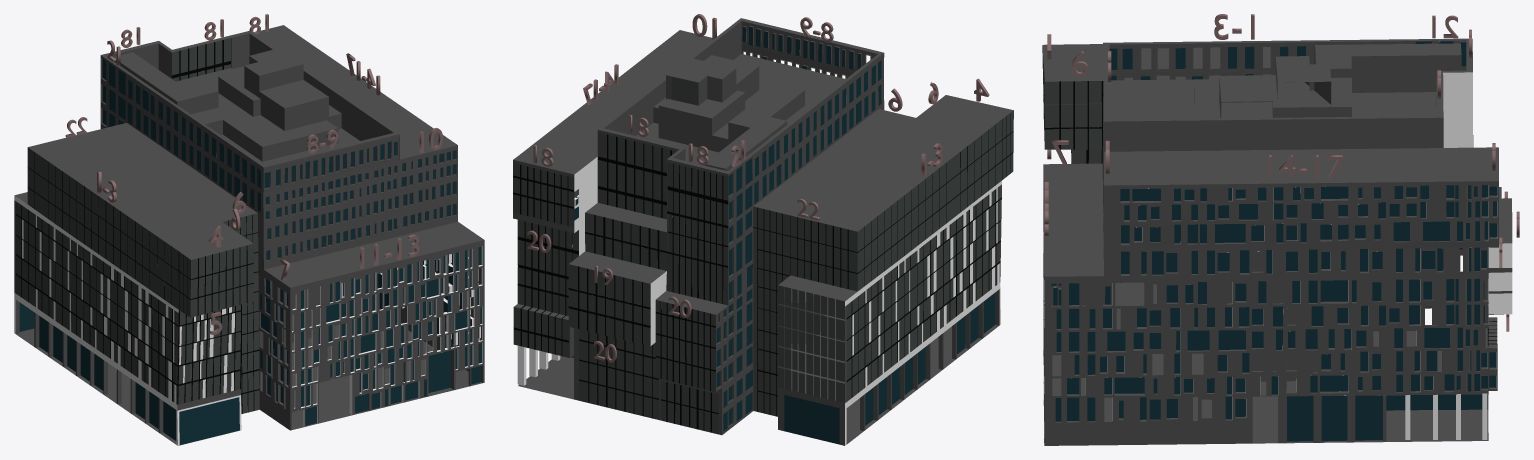
The model's file is S1Handyside.glb.
3 renders of one model, left to right at view 1: azimuth 30°, elevation 25°; view 2: azimuth 150°, elevation 25°; view 3: azimuth 270°, elevation 25°, orthographic. The views are drawn at different scales.
Visible parts, largest first — view 1: building, Drop1, Drop2, Drop3, Drop5, Drop4, Drop12, Drop6, Drop11, Drop13, Drop8, Drop9 (+6 smaller); view 2: building, Drop20, Drop18, Drop22, Drop1, Drop2, Drop3, Drop19, Drop21, Drop9, Drop8, Text.009; view 3: building, Drop15, Drop16, Drop17, Drop6, Drop14, Text.009, Drop21.
Boxes of the visible parts, x1=… form: building: x1=14, y1=25, x2=484, y2=445; Drop1: x1=16, y1=147, x2=83, y2=339; Drop2: x1=83, y1=187, x2=142, y2=379; Drop3: x1=141, y1=227, x2=190, y2=404; Drop5: x1=178, y1=304, x2=240, y2=404; Drop4: x1=190, y1=243, x2=253, y2=317; Drop12: x1=355, y1=262, x2=421, y2=413; Drop6: x1=223, y1=213, x2=259, y2=413; Drop11: x1=294, y1=278, x2=360, y2=425; Drop13: x1=421, y1=246, x2=481, y2=396; Drop8: x1=264, y1=156, x2=332, y2=260; Drop9: x1=335, y1=141, x2=397, y2=243; building: x1=513, y1=18, x2=1013, y2=445; Drop20: x1=513, y1=219, x2=718, y2=434; Drop18: x1=513, y1=132, x2=728, y2=305; Drop22: x1=758, y1=207, x2=857, y2=416; Drop1: x1=846, y1=190, x2=911, y2=401; Drop2: x1=911, y1=147, x2=967, y2=351; Drop3: x1=966, y1=110, x2=1013, y2=307; Drop19: x1=568, y1=264, x2=650, y2=346; Drop21: x1=716, y1=158, x2=752, y2=431; Drop9: x1=742, y1=26, x2=807, y2=69; Drop8: x1=810, y1=41, x2=878, y2=90; Text.009: x1=583, y1=64, x2=618, y2=104; building: x1=1042, y1=38, x2=1512, y2=445; Drop15: x1=1112, y1=188, x2=1249, y2=419; Drop16: x1=1251, y1=186, x2=1385, y2=394; Drop17: x1=1389, y1=185, x2=1497, y2=391; Drop6: x1=1044, y1=81, x2=1101, y2=163; Drop14: x1=1055, y1=283, x2=1112, y2=421; Text.009: x1=1268, y1=155, x2=1342, y2=178; Drop21: x1=1415, y1=41, x2=1484, y2=323.
Size of the model in its own units: 23.27 by 19.63 by 26.89.
